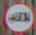Heavy Vehicles: (2, 0, 32, 31)
